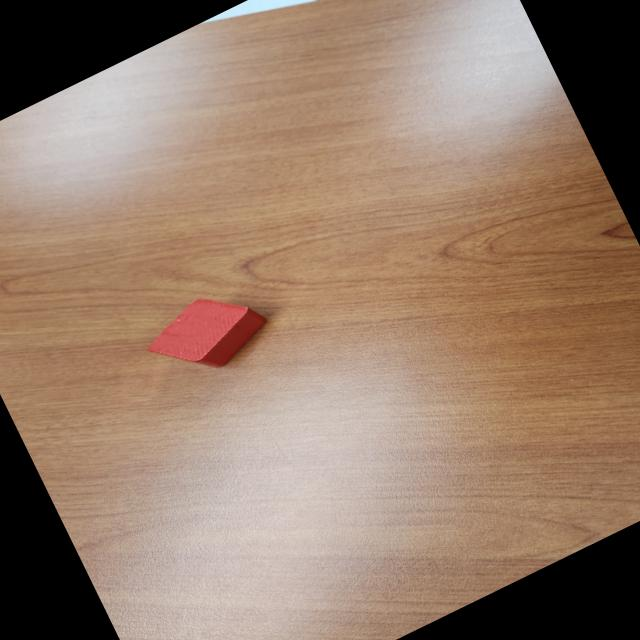red: (134, 273, 278, 396)
